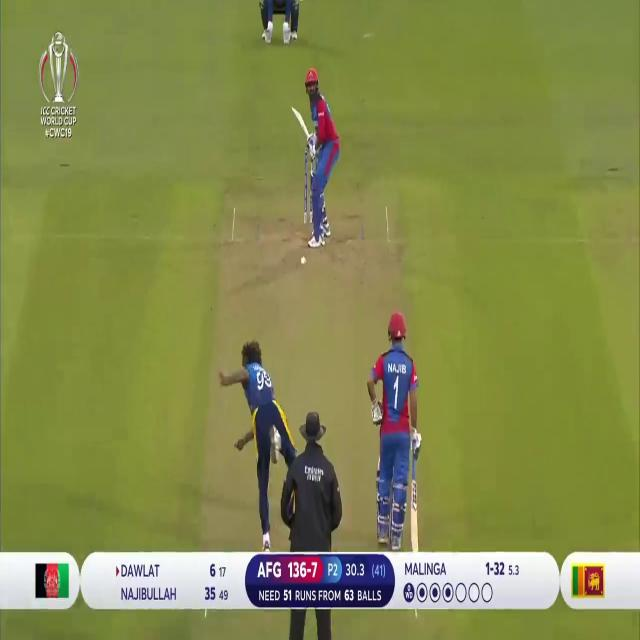ball: (299, 252, 307, 266)
